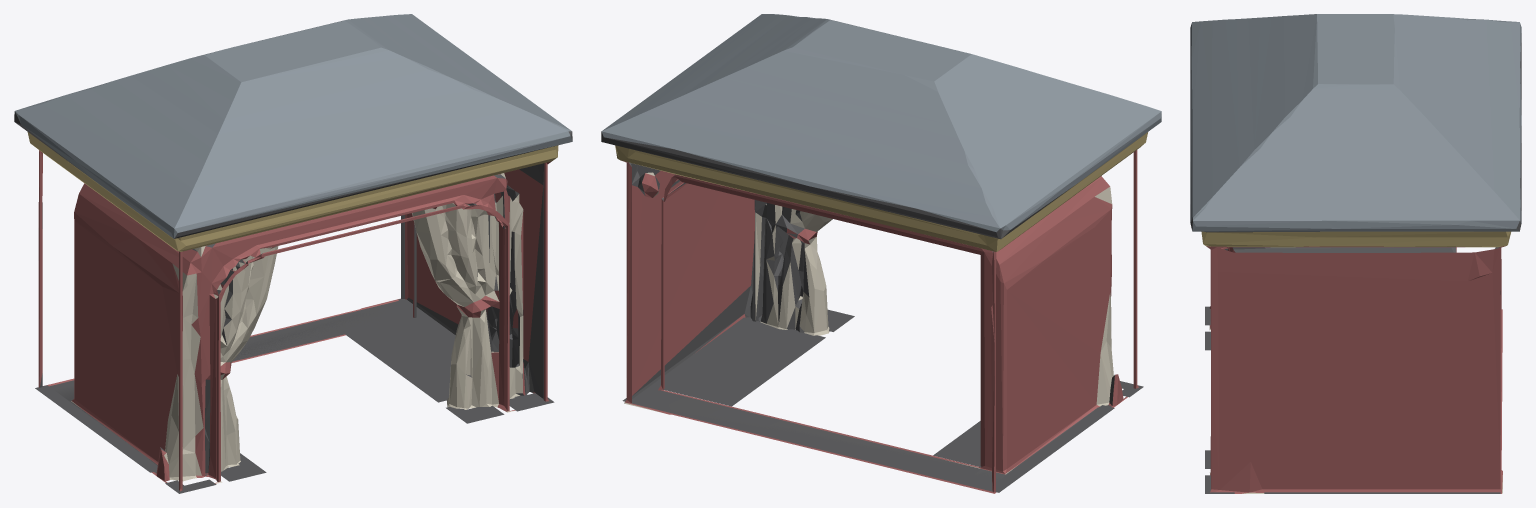
3 renders of one model, left to right at view 1: azimuth 30°, elevation 25°; view 2: azimuth 150°, elevation 25°; view 3: azimuth 270°, elevation 25°, orthographic. The views are drawn at different scales.
Visible parts, largest first — view 1: geometry_0; view 2: geometry_0; view 3: geometry_0.
Boxes of the visible parts, left/top/right/bottom form: geometry_0: left=14, top=14, right=572, bottom=493; geometry_0: left=601, top=14, right=1161, bottom=493; geometry_0: left=1190, top=14, right=1521, bottom=493.
Bounding box in the file's own units: 1 × 0.8239 × 0.703.
